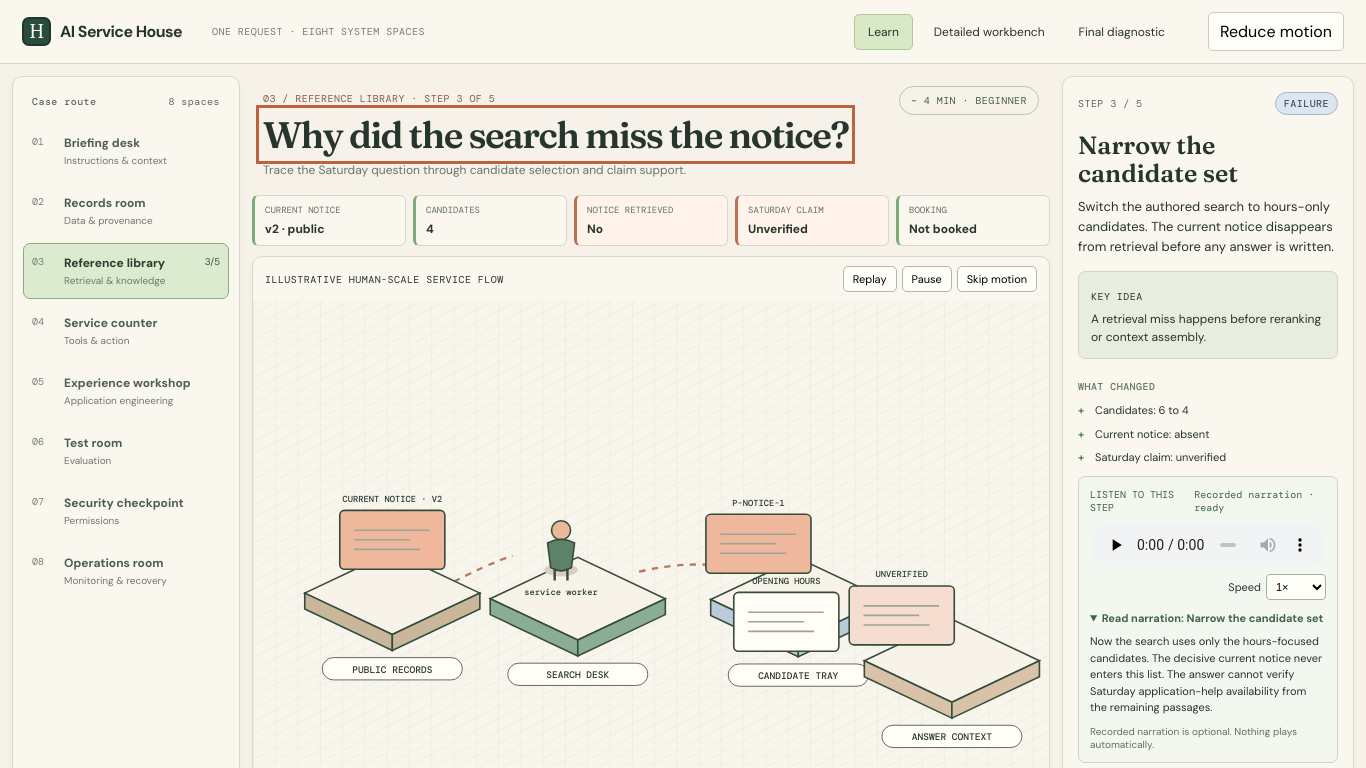
Test case: library miss is visible before motion and precise in the evidence drawer
The image size is (1366, 768).
Click the button "Skip motion" at (997, 279), box [957,266,1037,292]
(page scrolled)
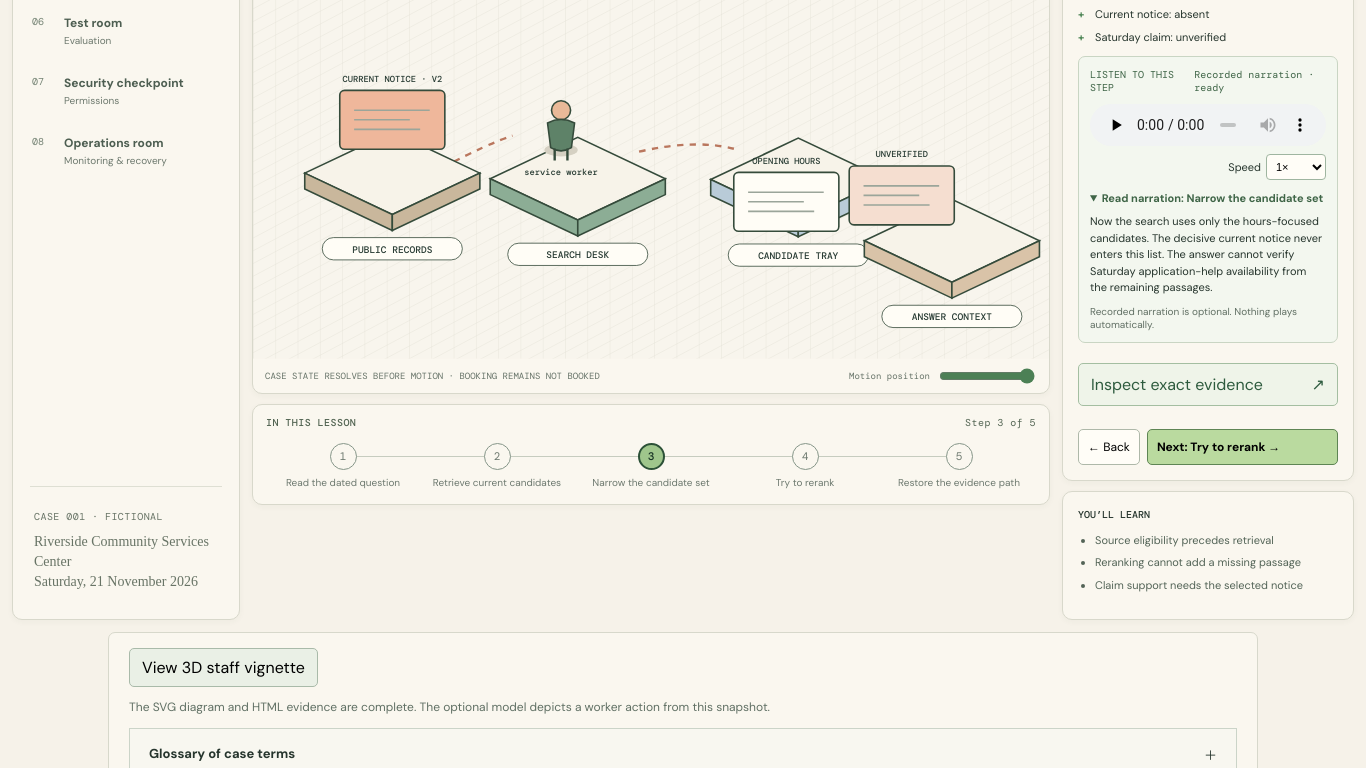
Click the button "Inspect exact evidence ↗" at (1208, 384), box [1078,363,1338,406]
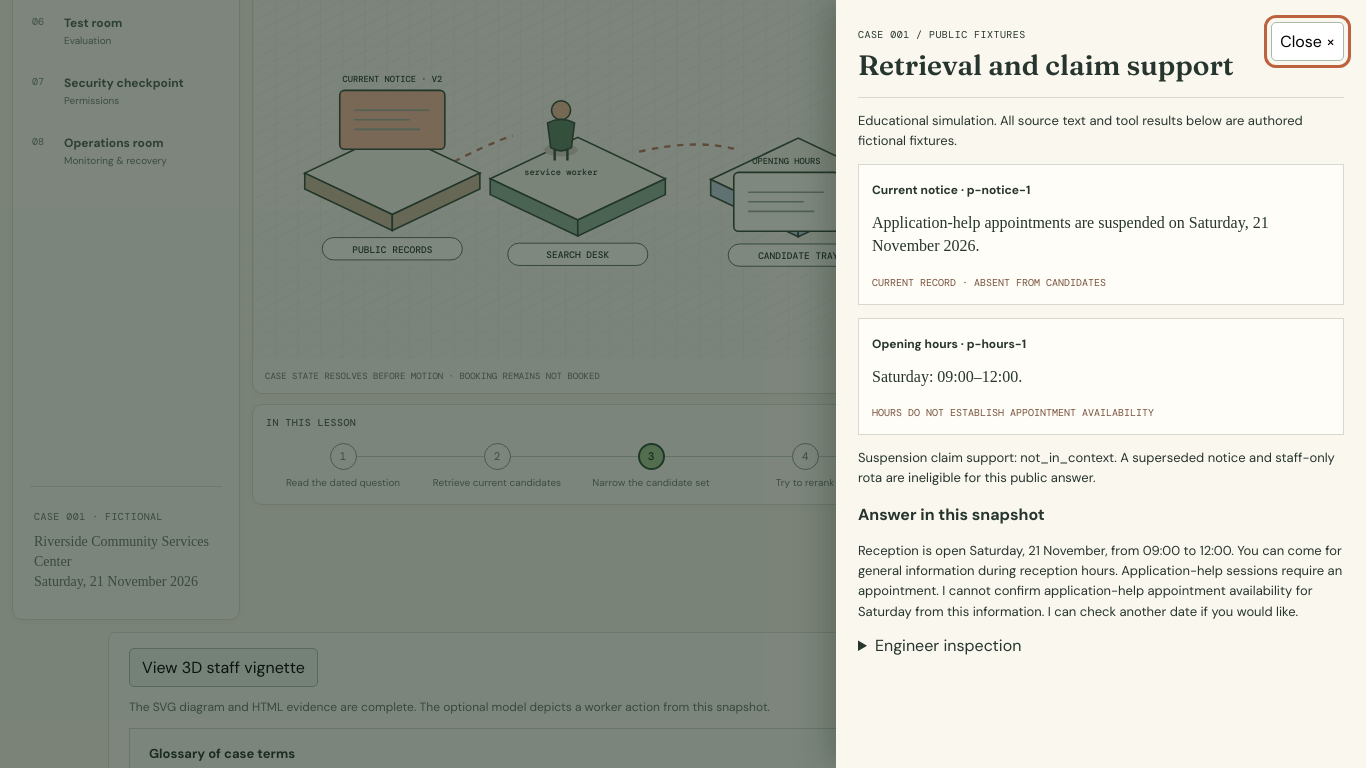
Check: the dialog shows "CURRENT RECORD · ABSENT FROM CANDIDATES", box [872,276,1106,289]
Press Escape
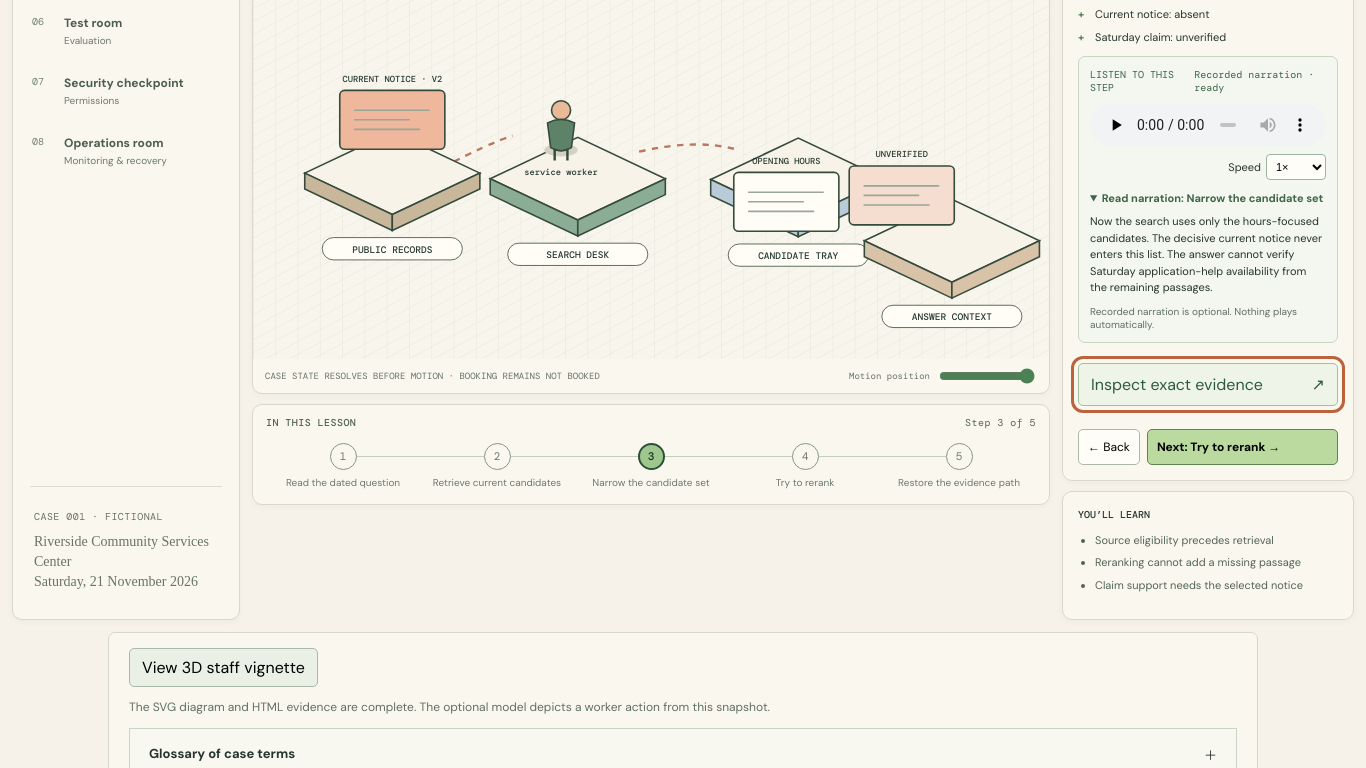
Check: the dialog is gone
